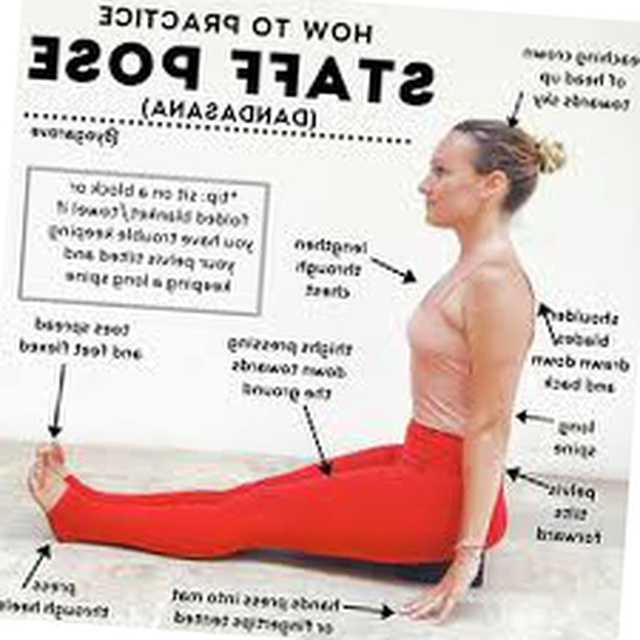Staff_Pose: (26, 119, 567, 625)
